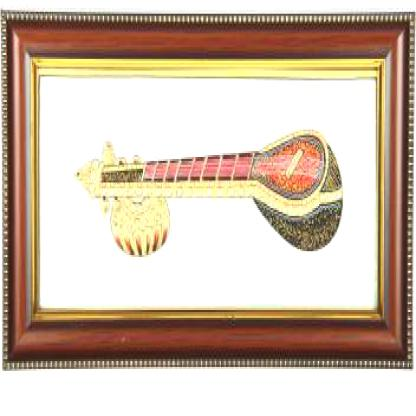Veena: (74, 126, 346, 226)
